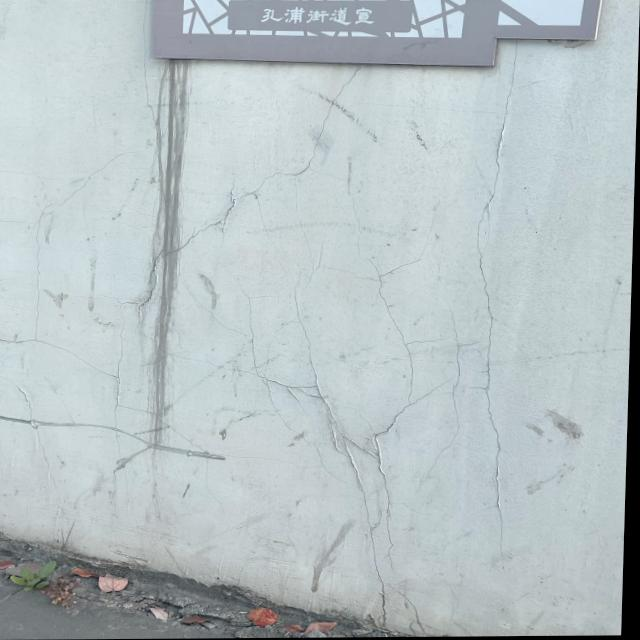crack: (213, 302, 464, 618), (130, 69, 371, 315), (466, 46, 535, 551)
